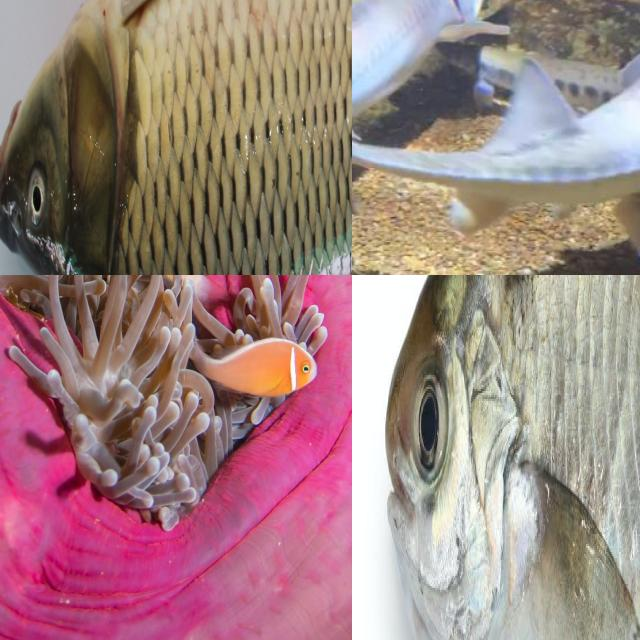fish: (0, 0, 352, 275), (376, 275, 640, 640), (352, 0, 640, 275), (66, 275, 352, 378)
